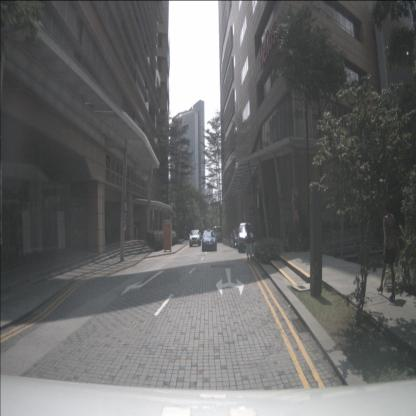human-pedestrian-adult: (376, 201, 398, 301), (245, 223, 253, 263)
vehicle-car: (238, 223, 254, 252), (202, 230, 217, 251), (230, 228, 245, 248), (189, 230, 201, 247)
vehicle-truck: (211, 227, 222, 243)
